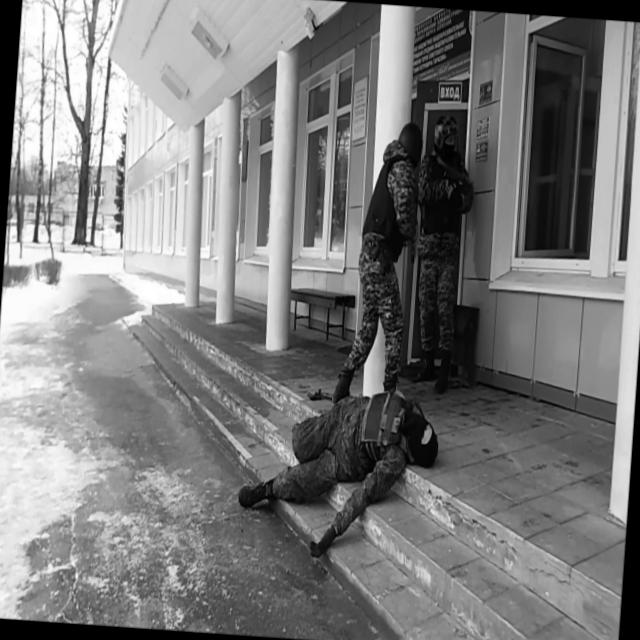gun: (426, 160, 469, 206), (376, 238, 396, 276)
person: (234, 380, 444, 566)
person with a gun: (332, 114, 423, 407), (403, 110, 480, 394)
